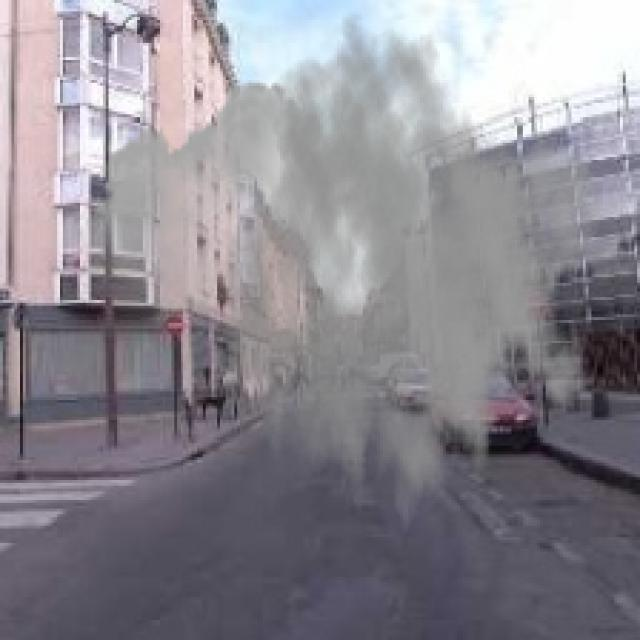smoke: (77, 12, 603, 557)
